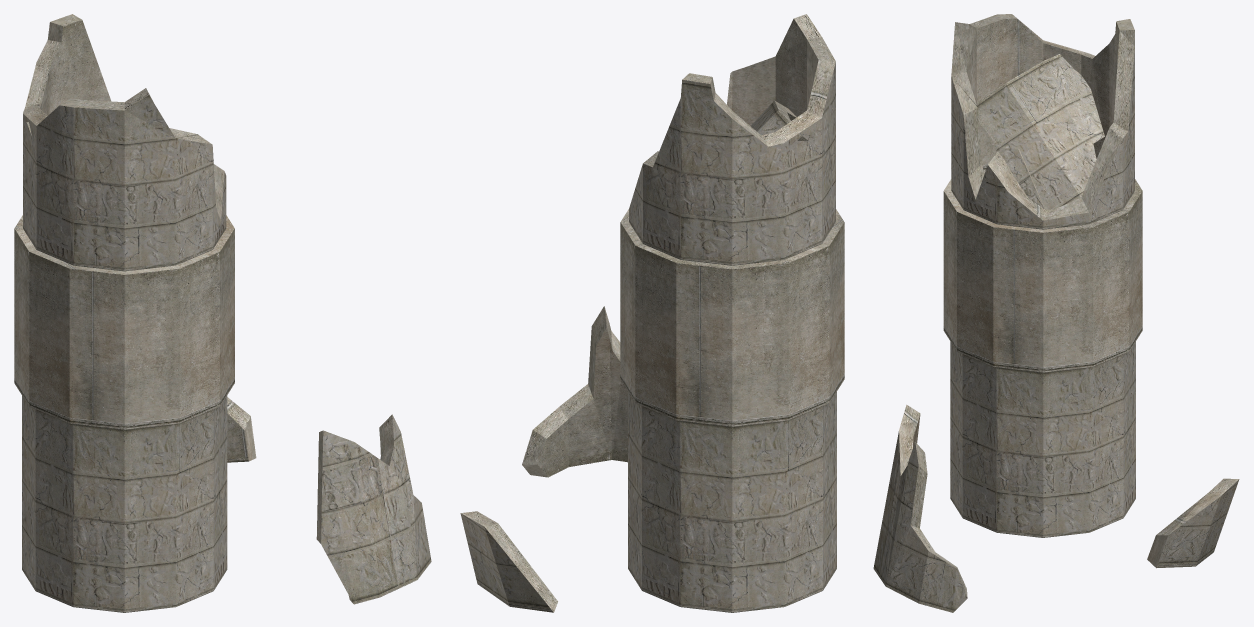
The model's file is poi_all_obelisk_s01_l1.fbx.
The picture shows the model from 3 angles, left to right: view 1: azimuth 30°, elevation 25°; view 2: azimuth 150°, elevation 25°; view 3: azimuth 270°, elevation 25°; orthographic projection. The views are drawn at different scales.
Parts seen in each view (by area): view 1: mesh_node; view 2: mesh_node; view 3: mesh_node.
Boxes of the visible parts, bbox=[...] form: mesh_node: bbox=[14, 14, 431, 612]; mesh_node: bbox=[460, 14, 844, 612]; mesh_node: bbox=[873, 14, 1239, 612].
Bounding box in the file's own units: 23.22 × 33.77 × 23.67.
